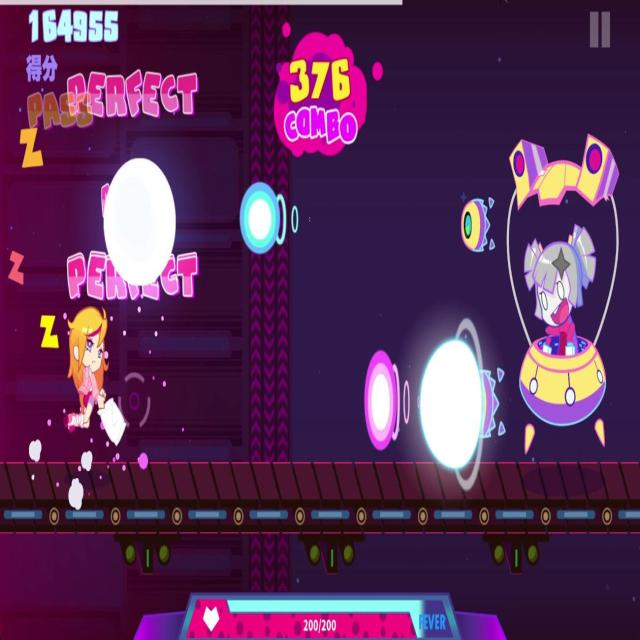qiangboss: (454, 111, 622, 458)
yuan: (353, 328, 417, 468), (236, 180, 306, 256)
